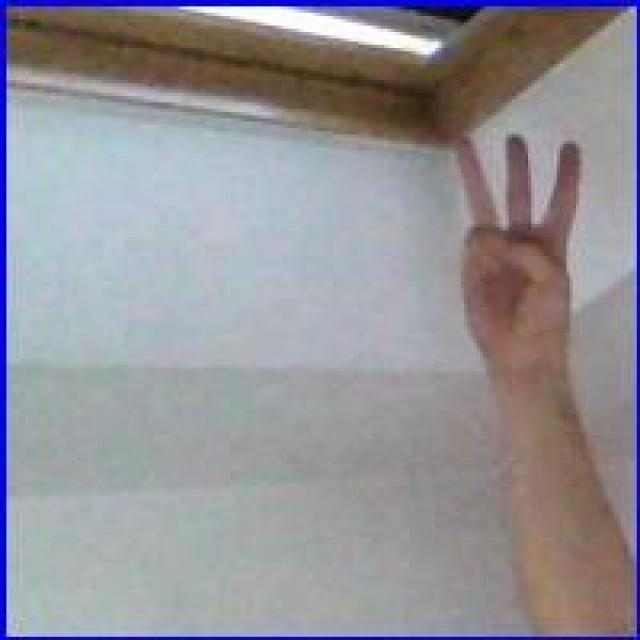W: (448, 131, 592, 371)
